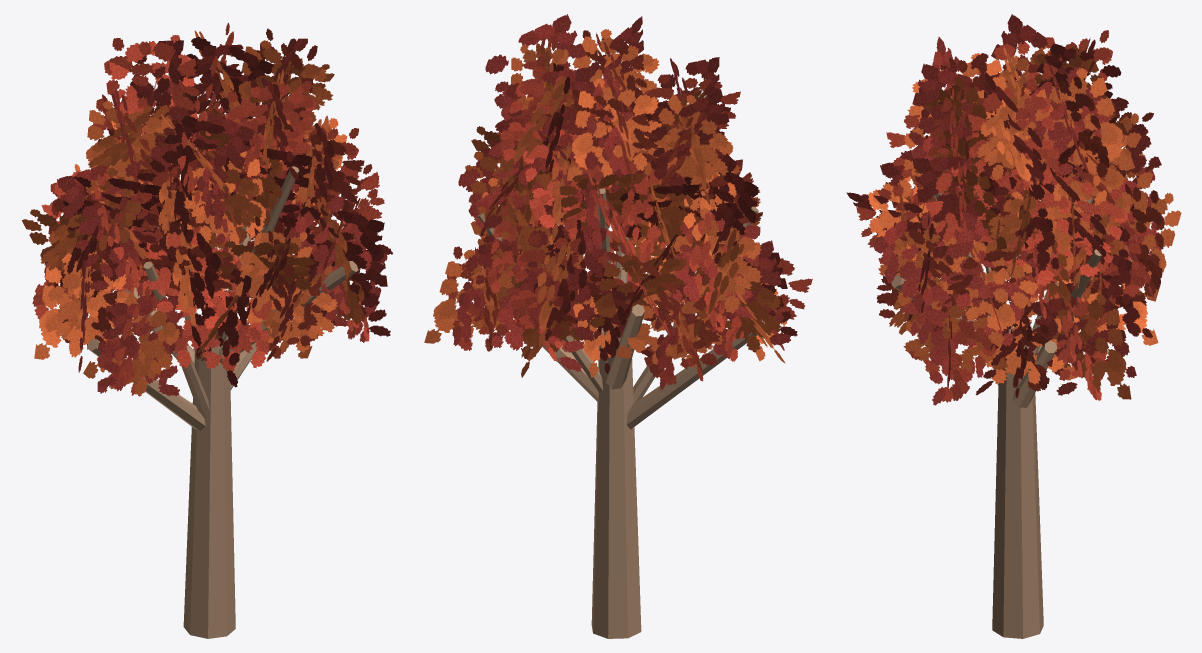
File: RedMaple.glb
3 views of the same model, side by side, from view 1: azimuth 30°, elevation 25°; view 2: azimuth 150°, elevation 25°; view 3: azimuth 270°, elevation 25° (orthographic).
Parts seen in each view (by area): view 1: Trunk, FoliageCard_33_03, FoliageCard_05_03, FoliageCard_06_02, FoliageCard_24_00, FoliageCard_31_03, FoliageCard_18_03, FoliageCard_06_03, FoliageCard_16_00, FoliageCard_05_00, FoliageCard_17_00, FoliageCard_26_00 (+65 smaller); view 2: Trunk, FoliageCard_31_01, FoliageCard_12_00, FoliageCard_32_00, FoliageCard_13_01, FoliageCard_35_01, FoliageCard_14_00, FoliageCard_30_00, FoliageCard_04_01, FoliageCard_01_01, FoliageCard_32_01, FoliageCard_12_01 (+61 smaller); view 3: Trunk, FoliageCard_19_02, FoliageCard_19_01, FoliageCard_28_02, FoliageCard_30_02, FoliageCard_01_01, FoliageCard_34_02, FoliageCard_35_02, FoliageCard_18_03, FoliageCard_01_02, FoliageCard_30_03, FoliageCard_09_03 (+54 smaller).
Boxes of the visible parts, x1,y1,x2,y2 form: Trunk: (183, 336, 235, 638); FoliageCard_33_03: (143, 106, 254, 218); FoliageCard_05_03: (34, 253, 126, 359); FoliageCard_06_02: (83, 290, 180, 396); FoliageCard_24_00: (57, 161, 162, 269); FoliageCard_31_03: (104, 38, 199, 130); FoliageCard_18_03: (296, 206, 384, 297); FoliageCard_06_03: (97, 295, 182, 396); FoliageCard_16_00: (143, 232, 238, 329); FoliageCard_05_00: (43, 251, 142, 352); FoliageCard_17_00: (235, 231, 312, 323); FoliageCard_26_00: (183, 151, 270, 244); Trunk: (591, 328, 641, 638); FoliageCard_31_01: (567, 78, 661, 181); FoliageCard_12_00: (516, 226, 606, 341); FoliageCard_32_00: (635, 94, 732, 191); FoliageCard_13_01: (588, 254, 686, 327); FoliageCard_35_01: (485, 14, 605, 120); FoliageCard_14_00: (660, 208, 762, 313); FoliageCard_30_00: (504, 67, 599, 169); FoliageCard_04_01: (615, 290, 723, 367); FoliageCard_01_01: (424, 249, 514, 343); FoliageCard_32_01: (649, 89, 737, 199); FoliageCard_12_01: (512, 233, 608, 329); Trunk: (992, 324, 1043, 638); FoliageCard_19_02: (922, 211, 1039, 346); FoliageCard_19_01: (942, 240, 1038, 346); FoliageCard_28_02: (912, 156, 1017, 258); FoliageCard_30_02: (1047, 68, 1134, 174); FoliageCard_01_01: (1052, 294, 1131, 399); FoliageCard_34_02: (900, 63, 1007, 176); FoliageCard_35_02: (968, 78, 1059, 185); FoliageCard_18_03: (871, 210, 956, 335); FoliageCard_01_02: (1030, 296, 1136, 395); FoliageCard_30_03: (1024, 67, 1124, 196); FoliageCard_09_03: (912, 284, 983, 405).
Bounding box in the file's own units: 5.01 × 8.29 × 4.35.
Materials: 5 (3 with a texture image).
